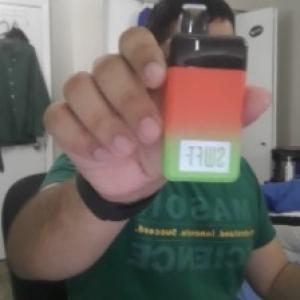Swift-E-Ciggirate: (158, 0, 248, 186)
